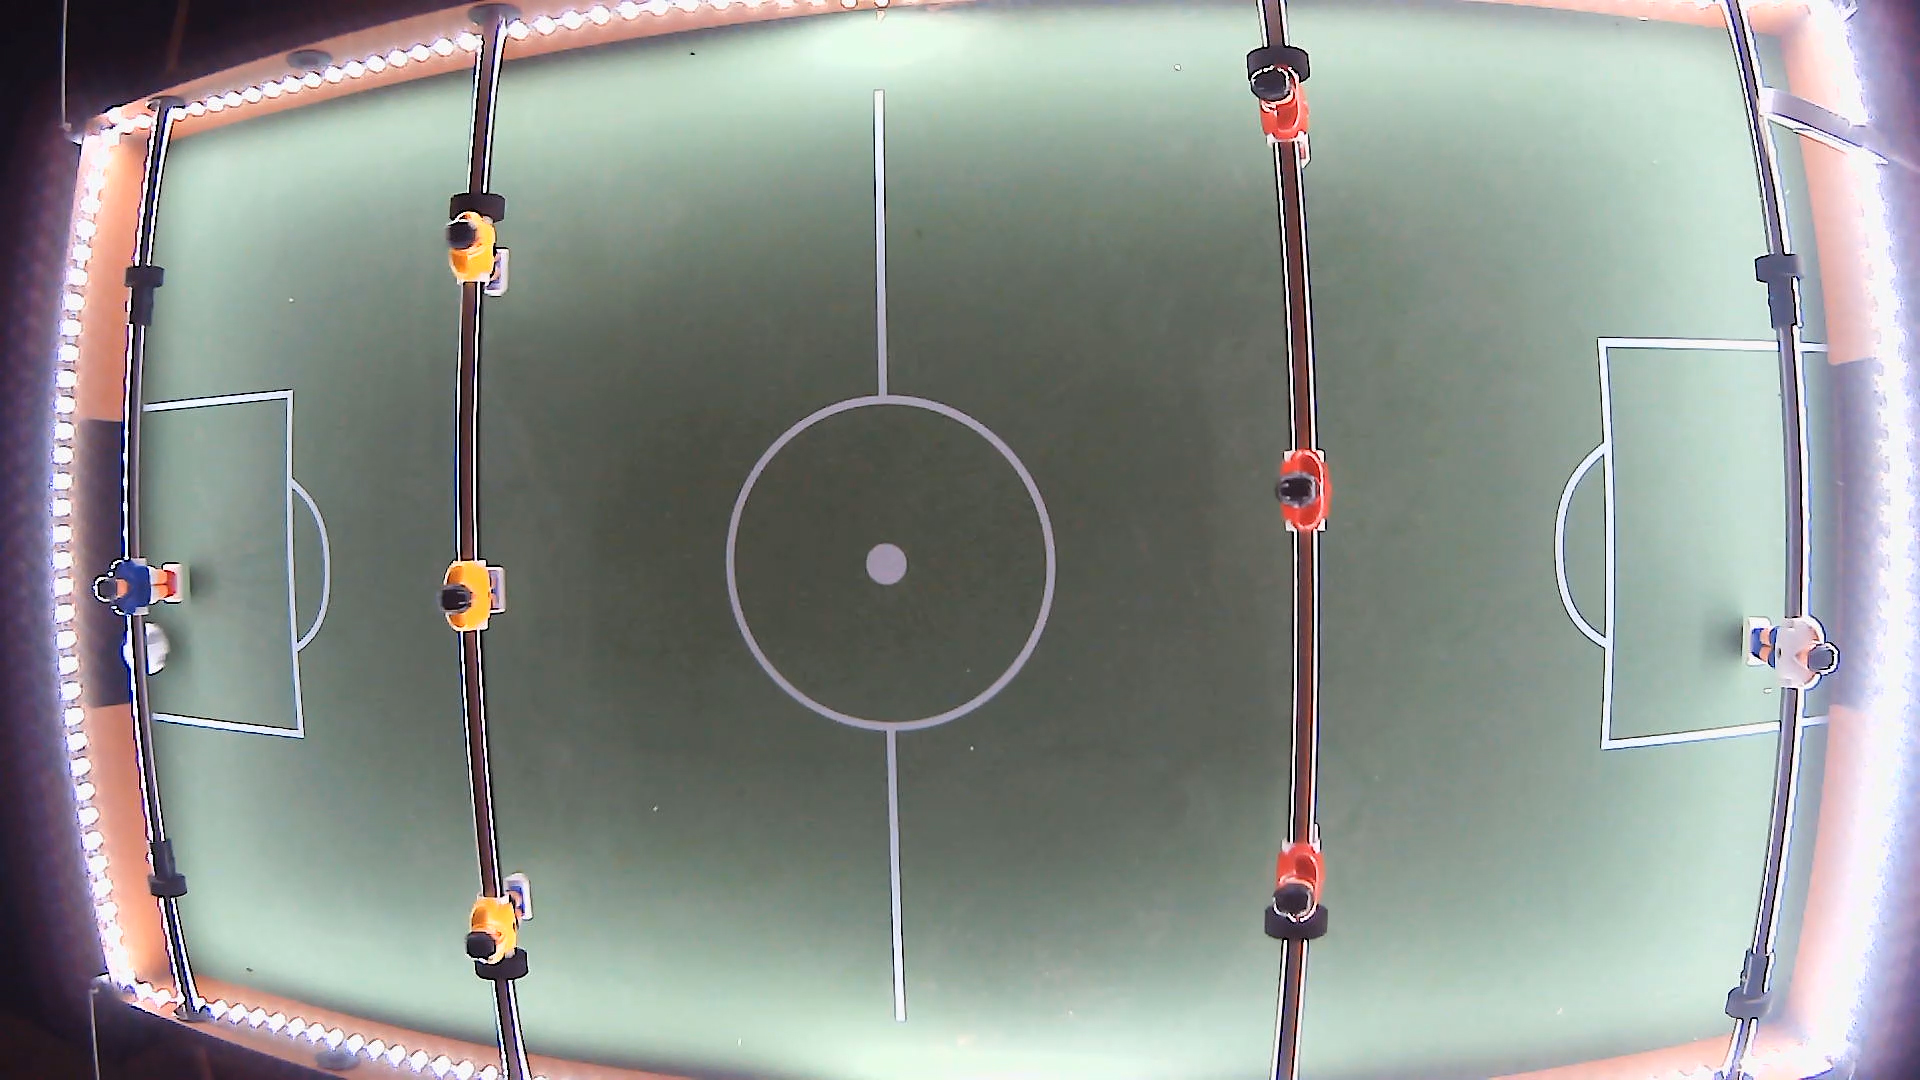Foosball: (121, 621, 167, 675)
